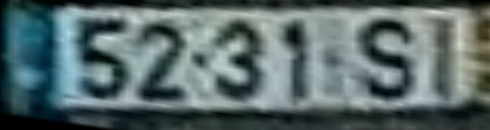1: (277, 18, 317, 107)
2: (135, 21, 191, 108)
3: (210, 18, 269, 109)
5: (74, 18, 135, 105)
I: (433, 16, 460, 104)
S: (354, 17, 424, 106)
